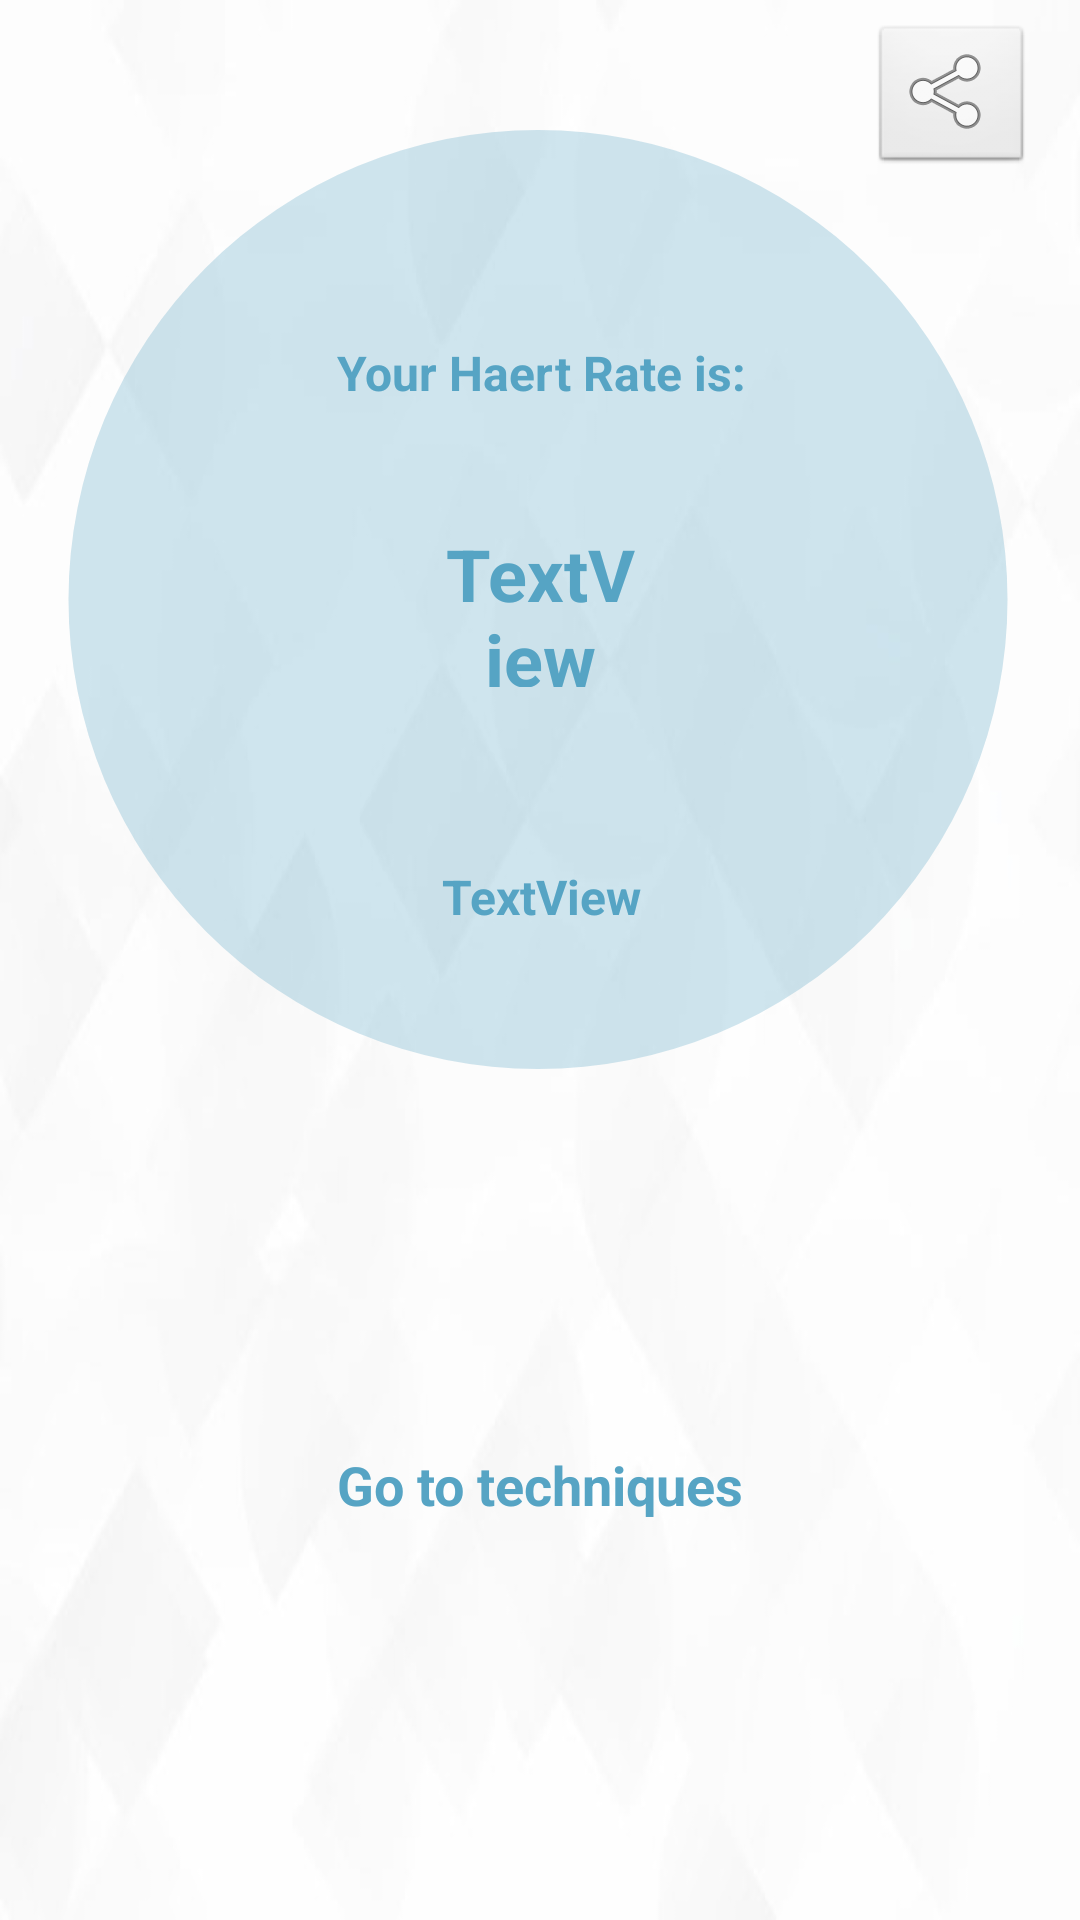

Icon click points for this 1080 x 1920 phone screenshot, format (x=x, y=y):
share: (x=951, y=94)
